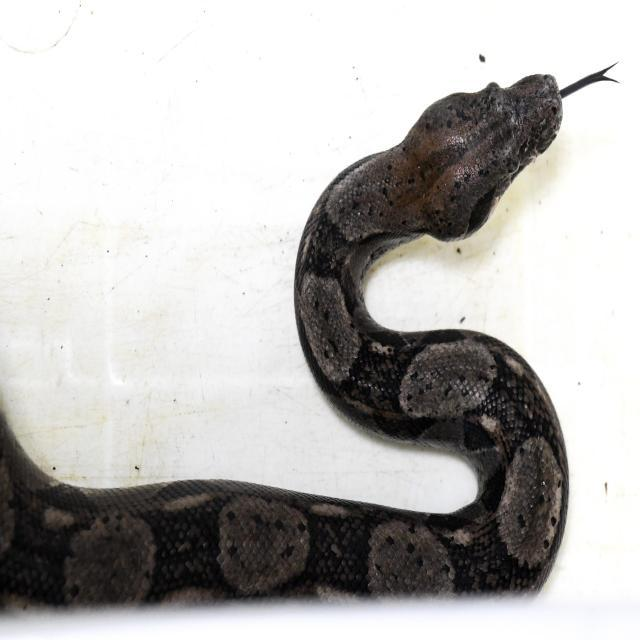Snake: (0, 40, 618, 640)
